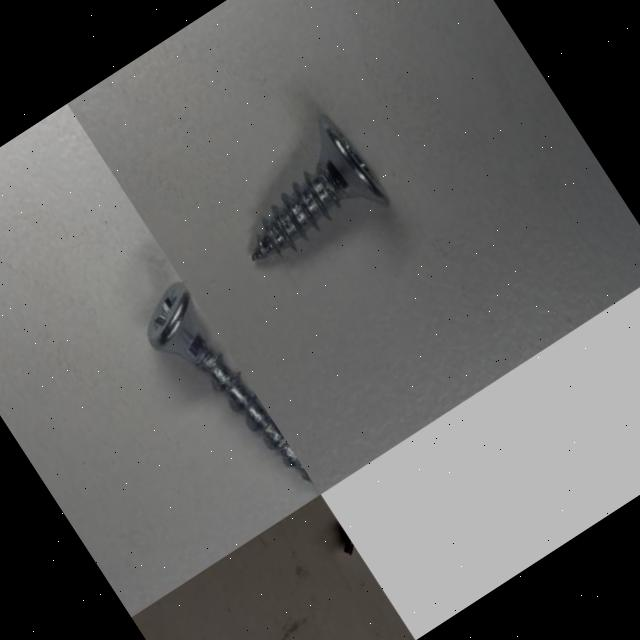Screw: (203, 103, 395, 284), (148, 282, 314, 484), (331, 528, 358, 561)
